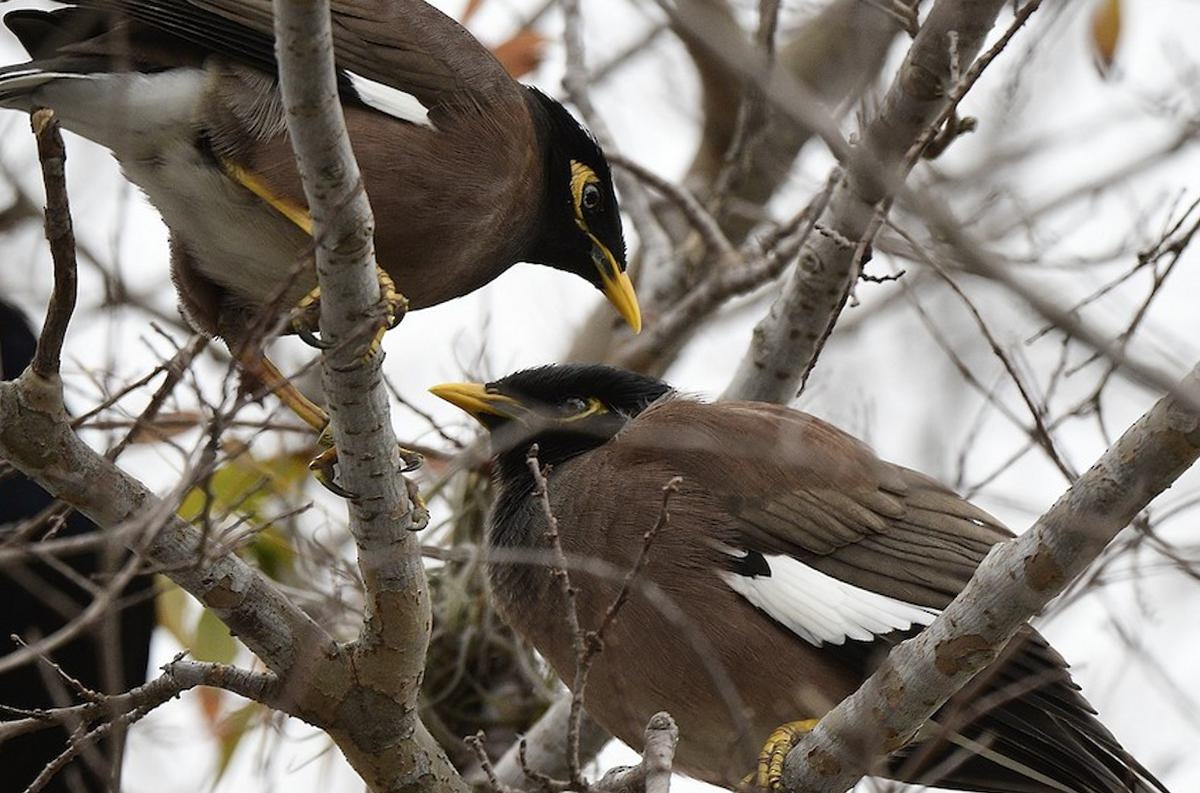myna: (440, 339, 1100, 752), (19, 24, 714, 324)
